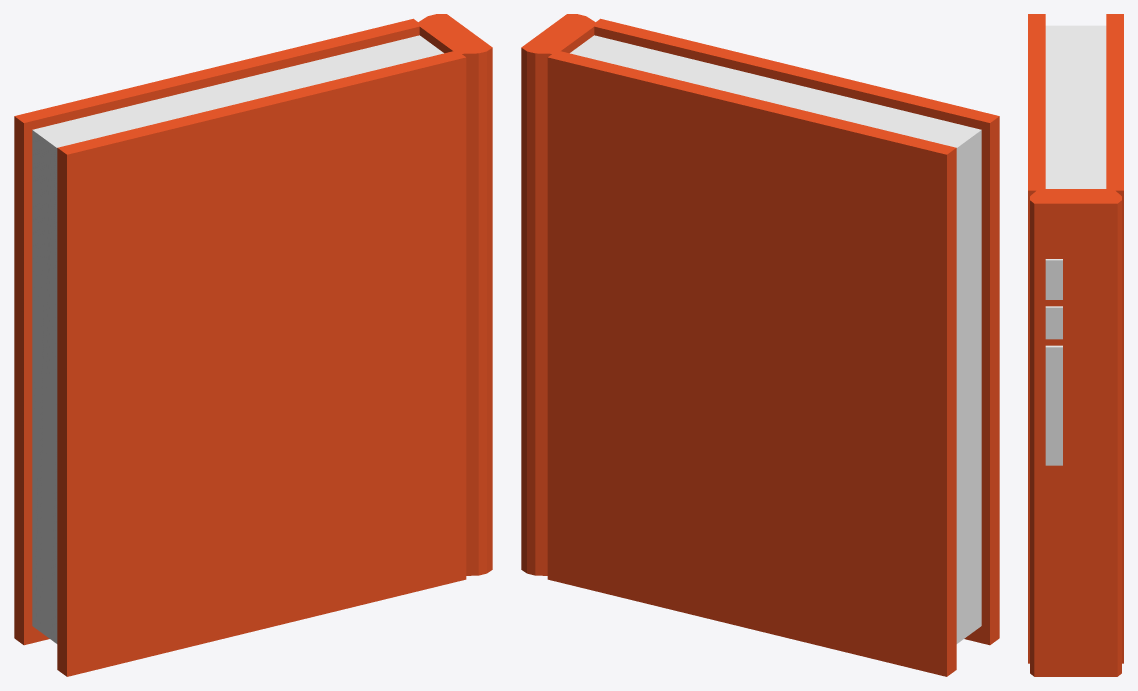
Rendered from book.fbx.
3 renders of one model, left to right at view 1: azimuth 30°, elevation 25°; view 2: azimuth 150°, elevation 25°; view 3: azimuth 270°, elevation 25°, orthographic. The views are drawn at different scales.
Parts seen in each view (by area): view 1: mesh_1555392229, mesh_1420555442, mesh_1921312344, mesh_763087133; view 2: mesh_1921312344, mesh_1420555442, mesh_1555392229, mesh_763087133; view 3: mesh_763087133, mesh_1420555442, mesh_1555392229, mesh_1921312344, mesh_947448277, mesh_292385261, mesh_1841827071, mesh_530903543.
Boxes of the visible parts, left/top/right/bottom form: mesh_1555392229: left=57, top=51, right=466, bottom=676; mesh_1420555442: left=32, top=35, right=443, bottom=643; mesh_1921312344: left=14, top=18, right=419, bottom=645; mesh_763087133: left=416, top=14, right=492, bottom=575; mesh_1921312344: left=547, top=51, right=956, bottom=676; mesh_1420555442: left=570, top=35, right=981, bottom=643; mesh_1555392229: left=594, top=18, right=999, bottom=645; mesh_763087133: left=521, top=14, right=597, bottom=575; mesh_763087133: left=1030, top=189, right=1121, bottom=676; mesh_1420555442: left=1045, top=25, right=1106, bottom=188; mesh_1555392229: left=1028, top=14, right=1045, bottom=663; mesh_1921312344: left=1106, top=14, right=1123, bottom=663; mesh_947448277: left=1045, top=345, right=1062, bottom=465; mesh_292385261: left=1045, top=259, right=1062, bottom=299; mesh_1841827071: left=1045, top=306, right=1062, bottom=323; mesh_530903543: left=1045, top=323, right=1062, bottom=339.
Bounding box in the file's own units: 52 × 60 × 11.
